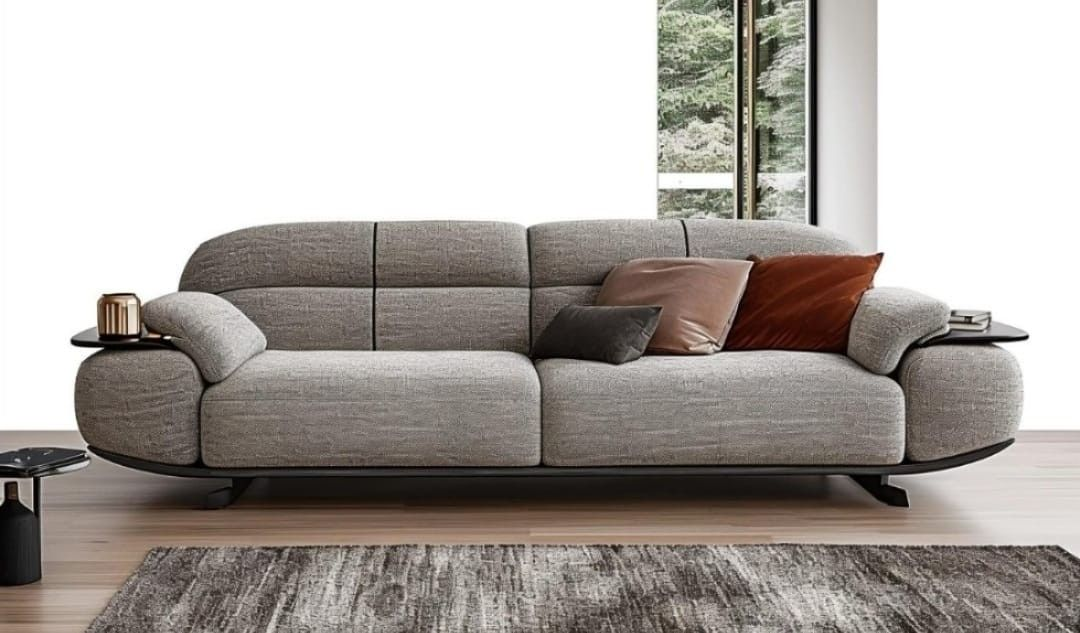3seatersofa: (72, 222, 1021, 506)
backrest: (180, 222, 848, 353)
base: (88, 440, 1011, 488)
leftarmrest: (846, 288, 1022, 460)
leg: (851, 475, 908, 506), (205, 478, 253, 508)
pillow: (534, 254, 882, 363)
rightarmrest: (76, 292, 266, 462)
